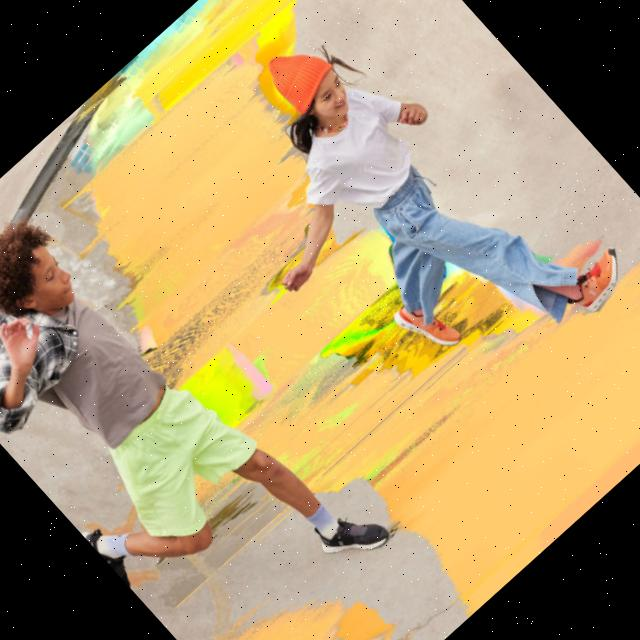Person: (167, 0, 640, 454), (0, 170, 390, 640)
